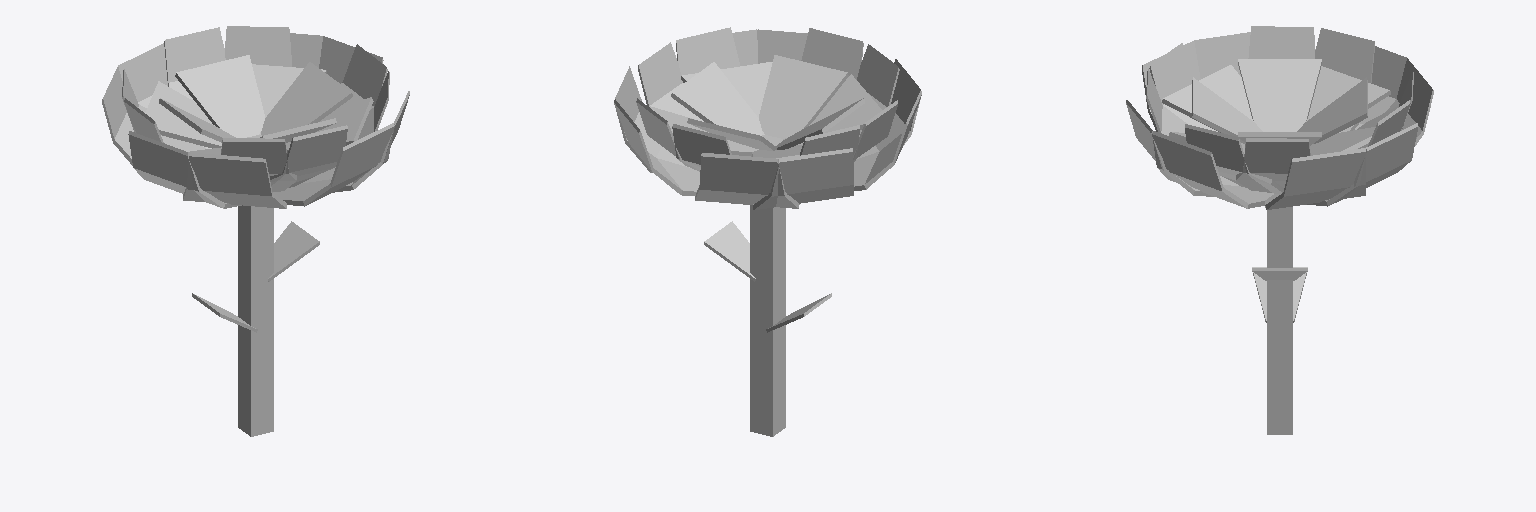
File: flower_1.obj
The picture shows the model from 3 angles: view 1: azimuth 30°, elevation 25°; view 2: azimuth 150°, elevation 25°; view 3: azimuth 270°, elevation 25°; orthographic projection.
Visible parts, largest first — view 1: Petal.019_Petal, Stem_Stem, Leaf_Leaf; view 2: Petal.019_Petal, Stem_Stem, Leaf_Leaf; view 3: Petal.019_Petal, Stem_Stem, Leaf.001_Leaf, Leaf_Leaf.
Boxes of the visible parts, x1,y1,x2,y2 form: Petal.019_Petal: [102, 26, 409, 208]; Stem_Stem: [238, 205, 273, 436]; Leaf_Leaf: [268, 221, 319, 281]; Petal.019_Petal: [614, 27, 921, 209]; Stem_Stem: [750, 205, 785, 436]; Leaf_Leaf: [704, 221, 755, 281]; Petal.019_Petal: [1126, 26, 1433, 209]; Stem_Stem: [1267, 207, 1292, 434]; Leaf.001_Leaf: [1252, 267, 1307, 322]; Leaf_Leaf: [1252, 268, 1307, 280].
Size of the model in its own units: 0.7277 by 0.9033 by 0.7277.